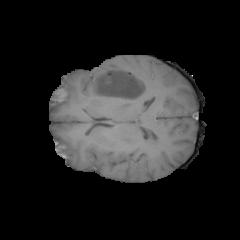glioma: (83, 68, 147, 169)
